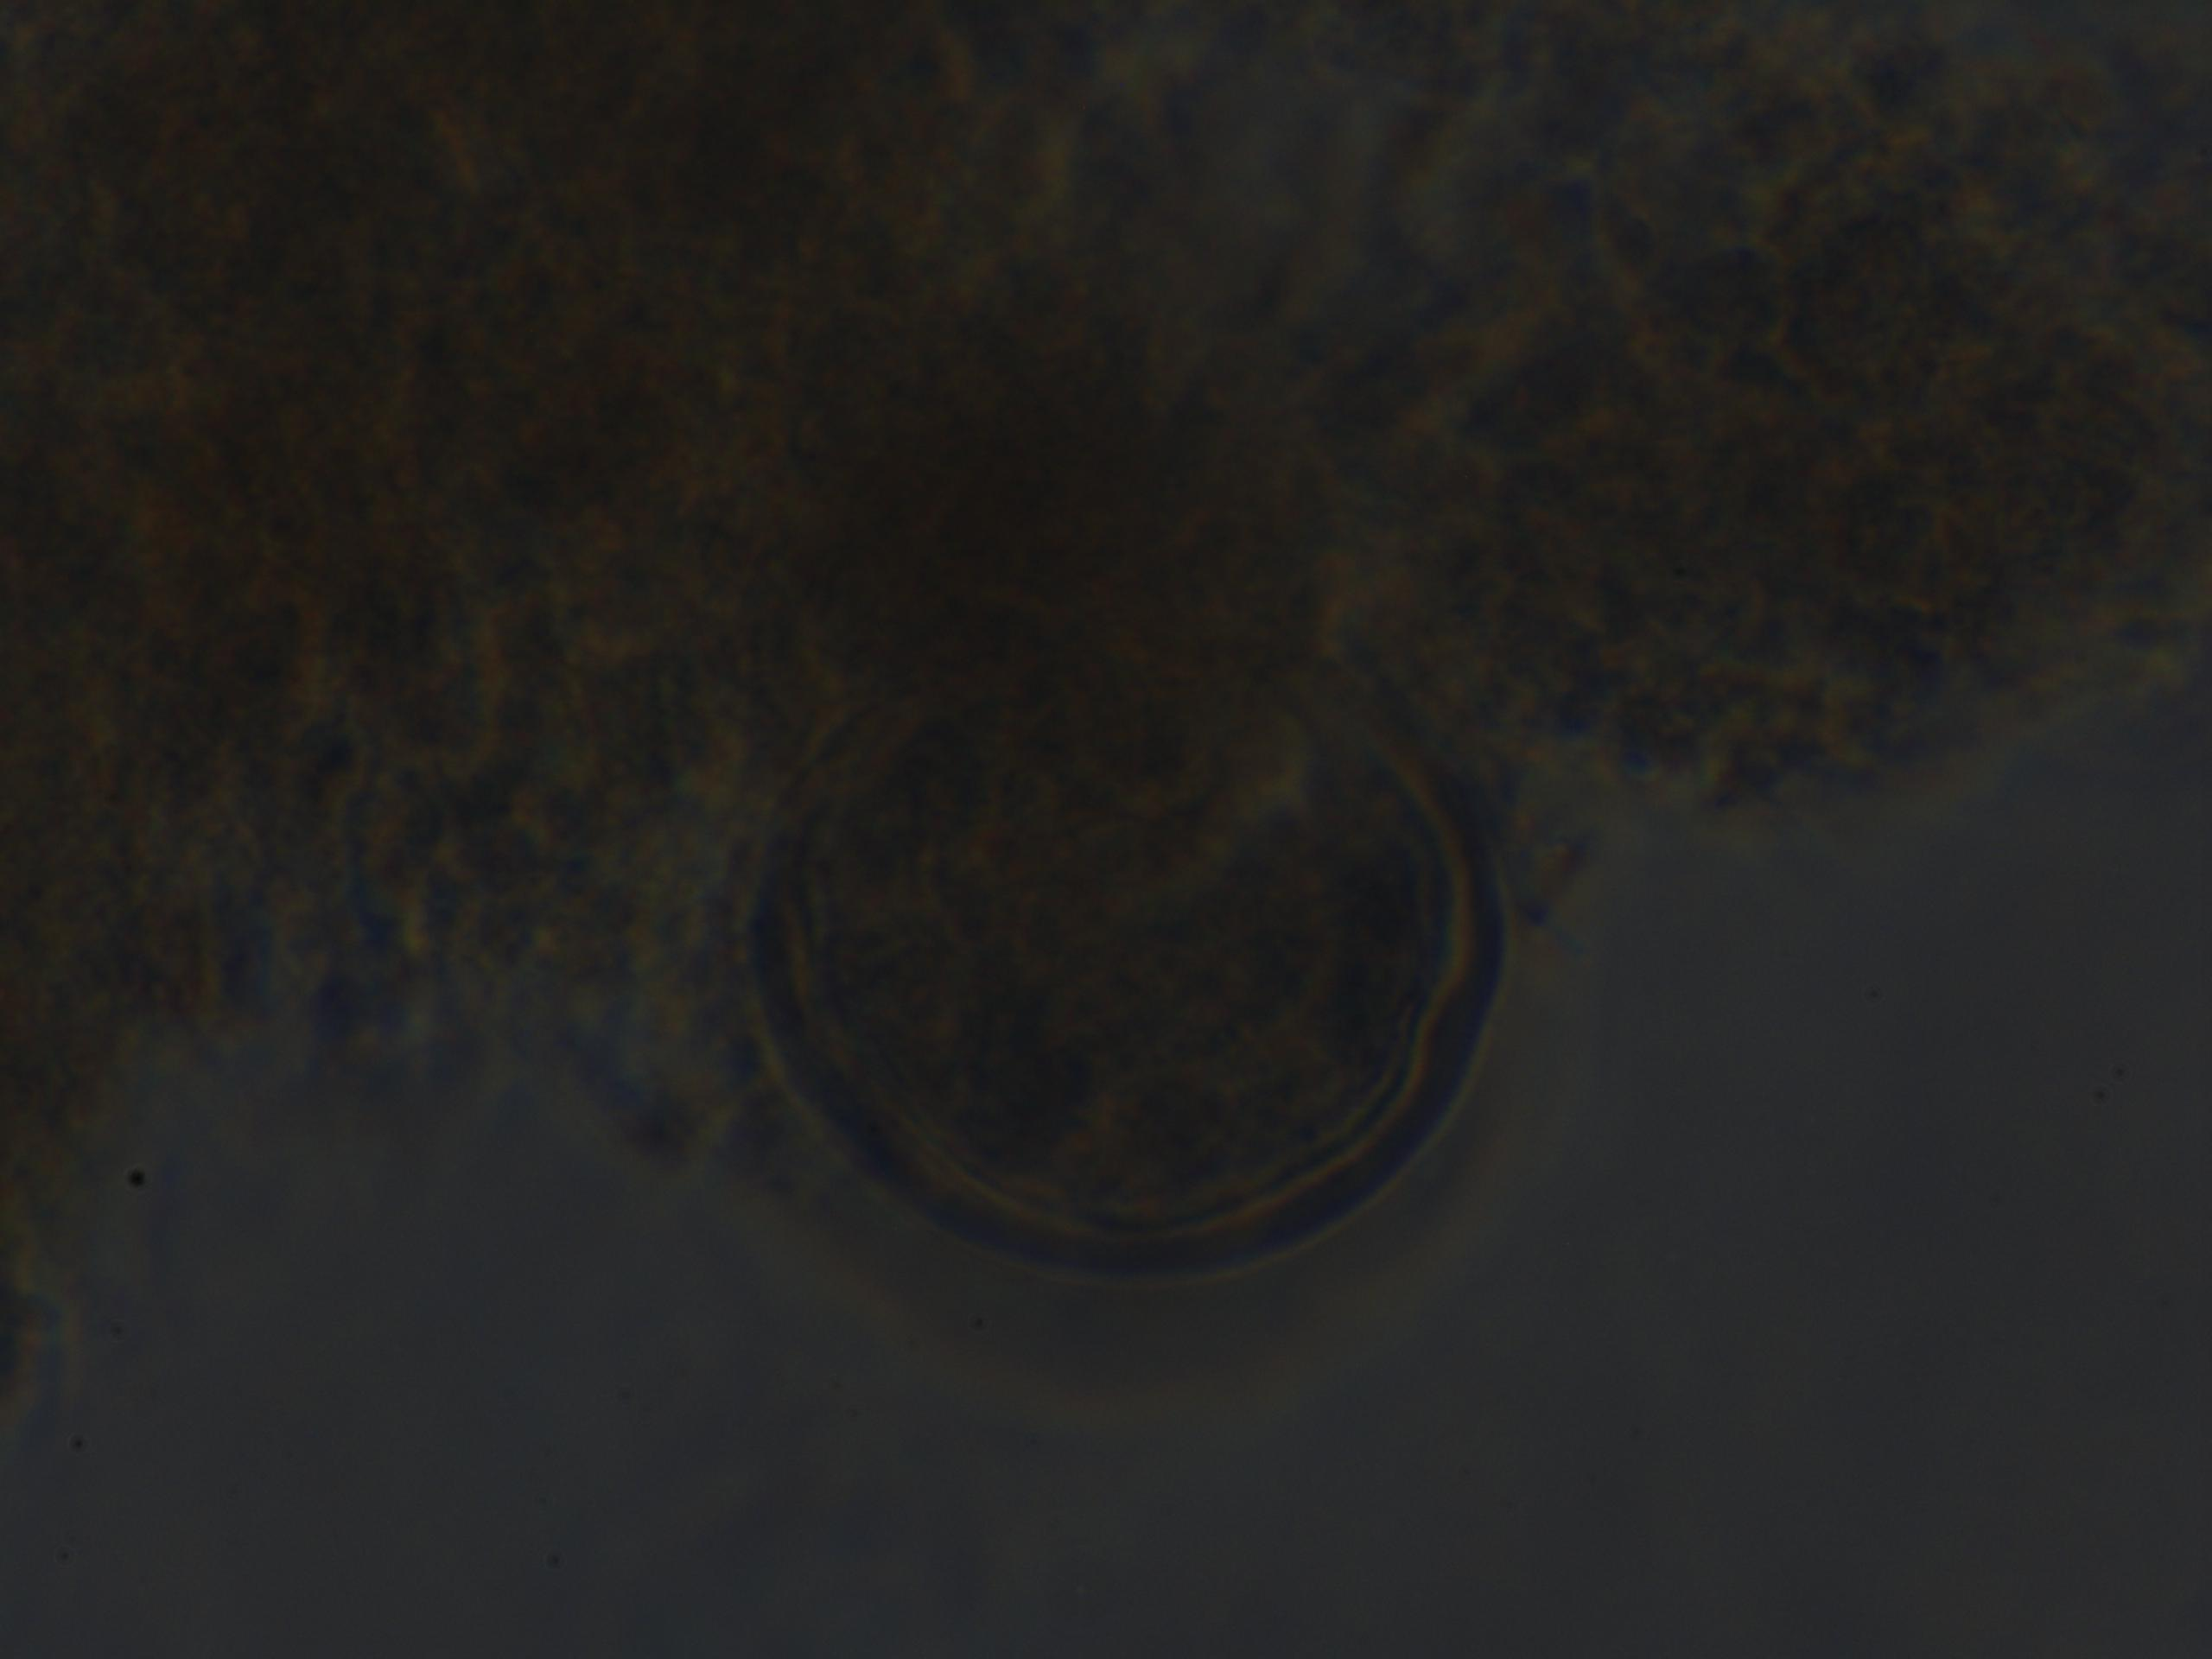protozoa: (704, 622, 1524, 1394)
